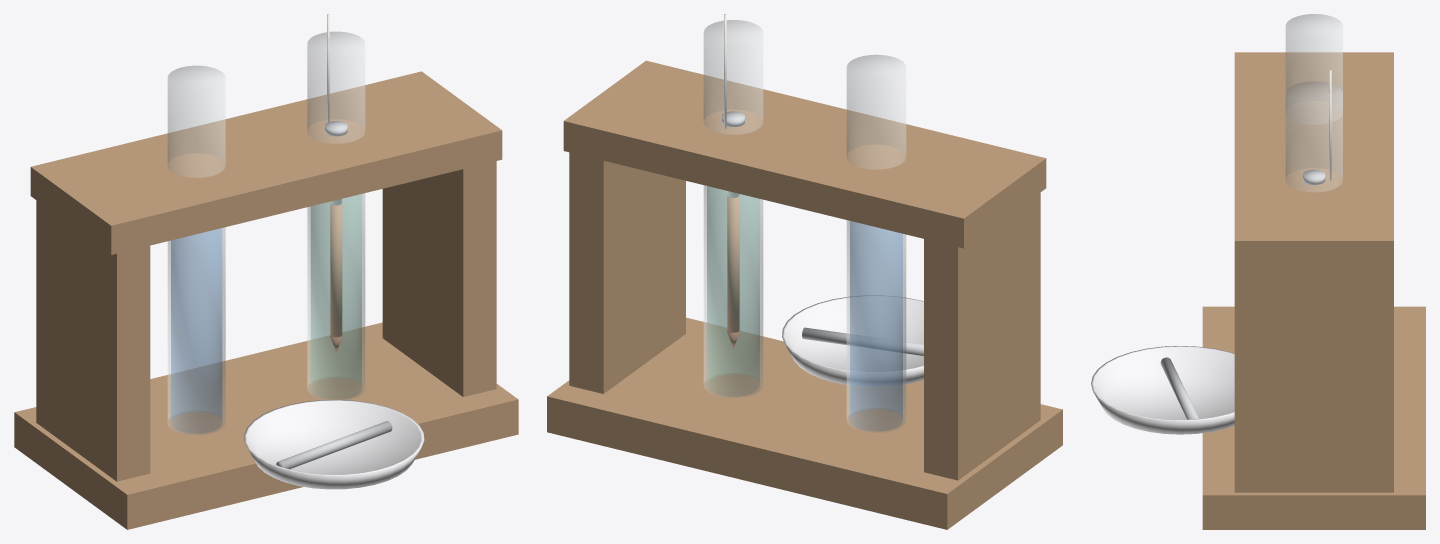
Rendered from displacement-reaction-setup.glb.
The picture shows the model from 3 angles, left to right: view 1: azimuth 30°, elevation 25°; view 2: azimuth 150°, elevation 25°; view 3: azimuth 270°, elevation 25°; orthographic projection. The views are drawn at different scales.
Visible parts, largest first — view 1: displacement-reaction-setup-rack-top, displacement-reaction-setup-rack-base, displacement-reaction-setup-rack-post--0.062, displacement-reaction-setup-rack-post-0.062, displacement-reaction-setup-tube-a, displacement-reaction-setup-tube-b, displacement-reaction-setup-watch-dish, displacement-reaction-setup-sol-b, displacement-reaction-setup-sol-a, displacement-reaction-setup-nail-lower, displacement-reaction-setup-comp-nail; view 2: displacement-reaction-setup-rack-base, displacement-reaction-setup-rack-top, displacement-reaction-setup-rack-post--0.062, displacement-reaction-setup-rack-post-0.062, displacement-reaction-setup-tube-a, displacement-reaction-setup-tube-b, displacement-reaction-setup-sol-a, displacement-reaction-setup-sol-b, displacement-reaction-setup-watch-dish, displacement-reaction-setup-nail-lower, displacement-reaction-setup-comp-nail; view 3: displacement-reaction-setup-rack-post-0.062, displacement-reaction-setup-rack-top, displacement-reaction-setup-rack-base, displacement-reaction-setup-watch-dish, displacement-reaction-setup-tube-b, displacement-reaction-setup-tube-a, displacement-reaction-setup-comp-nail.
Boxes of the visible parts, x1=… form: displacement-reaction-setup-rack-top: x1=30, y1=71, x2=502, y2=254; displacement-reaction-setup-rack-base: x1=14, y1=322, x2=518, y2=529; displacement-reaction-setup-rack-post--0.062: x1=36, y1=200, x2=150, y2=481; displacement-reaction-setup-rack-post-0.062: x1=382, y1=140, x2=496, y2=396; displacement-reaction-setup-tube-a: x1=167, y1=65, x2=225, y2=434; displacement-reaction-setup-tube-b: x1=307, y1=31, x2=365, y2=399; displacement-reaction-setup-watch-dish: x1=244, y1=400, x2=424, y2=489; displacement-reaction-setup-sol-b: x1=311, y1=194, x2=361, y2=398; displacement-reaction-setup-sol-a: x1=171, y1=228, x2=221, y2=432; displacement-reaction-setup-nail-lower: x1=330, y1=203, x2=342, y2=337; displacement-reaction-setup-comp-nail: x1=276, y1=421, x2=392, y2=469; displacement-reaction-setup-rack-base: x1=547, y1=317, x2=1062, y2=529; displacement-reaction-setup-rack-top: x1=563, y1=60, x2=1046, y2=248; displacement-reaction-setup-rack-post--0.062: x1=924, y1=192, x2=1040, y2=480; displacement-reaction-setup-rack-post-0.062: x1=569, y1=130, x2=685, y2=393; displacement-reaction-setup-tube-a: x1=846, y1=54, x2=906, y2=432; displacement-reaction-setup-tube-b: x1=703, y1=20, x2=763, y2=397; displacement-reaction-setup-sol-a: x1=850, y1=221, x2=902, y2=430; displacement-reaction-setup-sol-b: x1=707, y1=186, x2=759, y2=395; displacement-reaction-setup-watch-dish: x1=782, y1=295, x2=923, y2=386; displacement-reaction-setup-nail-lower: x1=727, y1=195, x2=739, y2=332; displacement-reaction-setup-comp-nail: x1=802, y1=327, x2=923, y2=355; displacement-reaction-setup-rack-post-0.062: x1=1234, y1=269, x2=1393, y2=492; displacement-reaction-setup-rack-top: x1=1234, y1=52, x2=1393, y2=269; displacement-reaction-setup-rack-base: x1=1202, y1=306, x2=1425, y2=529; displacement-reaction-setup-watch-dish: x1=1091, y1=346, x2=1234, y2=434; displacement-reaction-setup-tube-b: x1=1285, y1=81, x2=1342, y2=191; displacement-reaction-setup-tube-a: x1=1285, y1=14, x2=1342, y2=111; displacement-reaction-setup-comp-nail: x1=1160, y1=357, x2=1198, y2=419.
Size of the model in its own units: 0.14 by 0.138 by 0.105.
